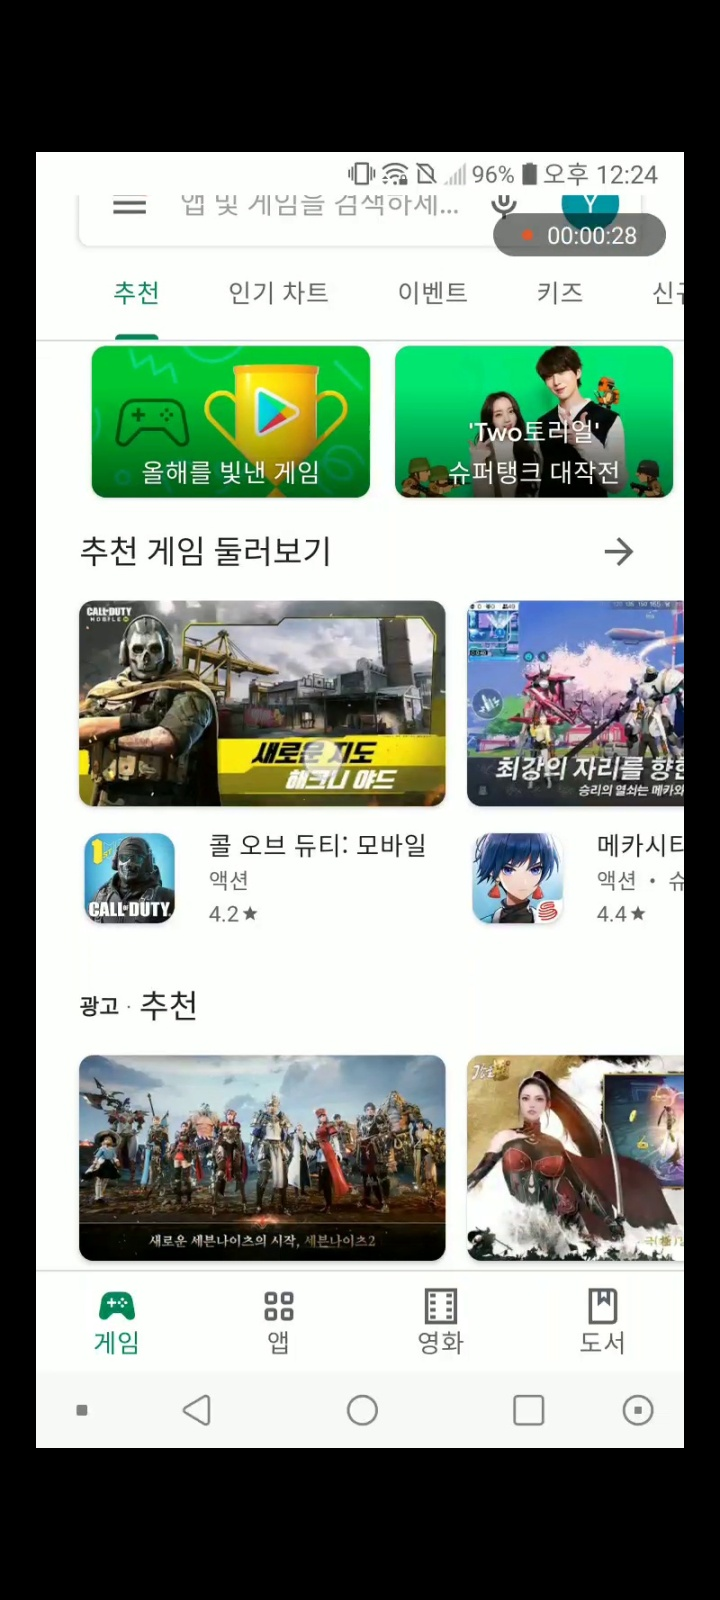Cursor: (301, 739, 346, 784)
